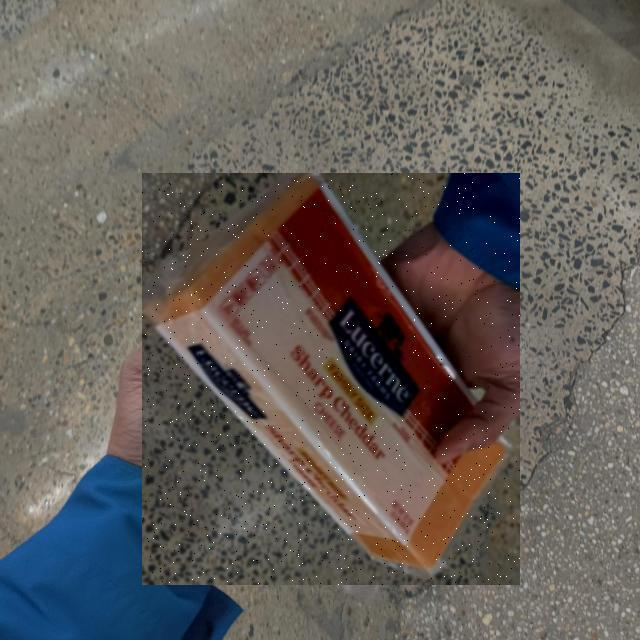Cheese: (142, 173, 520, 585)
